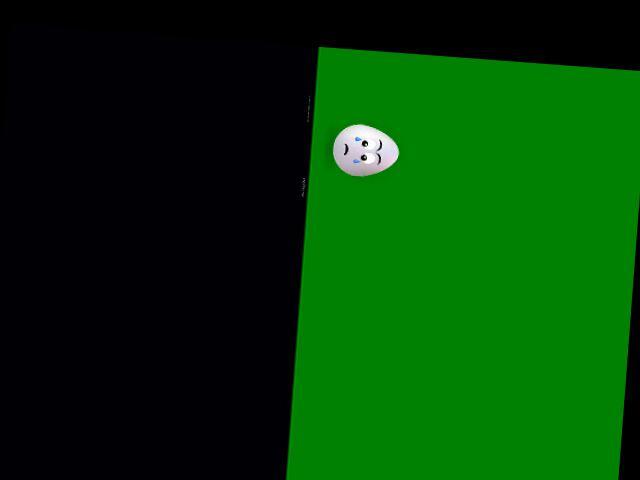egg: (331, 122, 400, 179)
